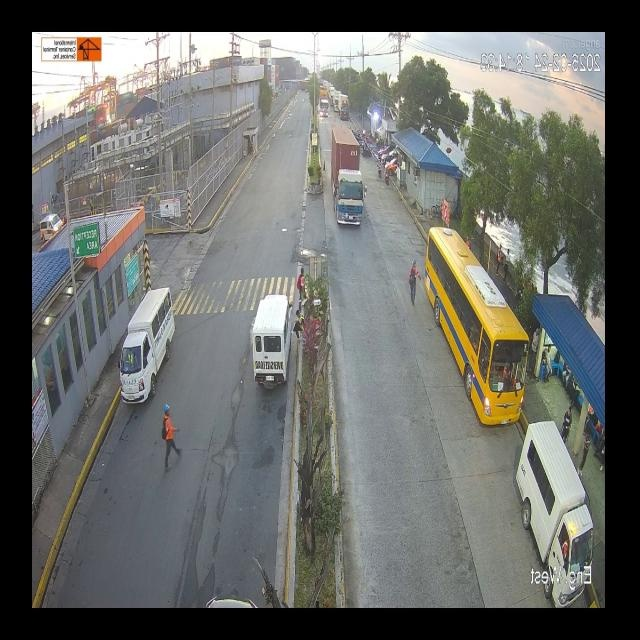bus: (424, 231, 521, 422)
car: (508, 442, 580, 567), (110, 282, 167, 402), (248, 289, 284, 425)
truck: (326, 124, 366, 234), (338, 94, 350, 126), (319, 84, 329, 121)
